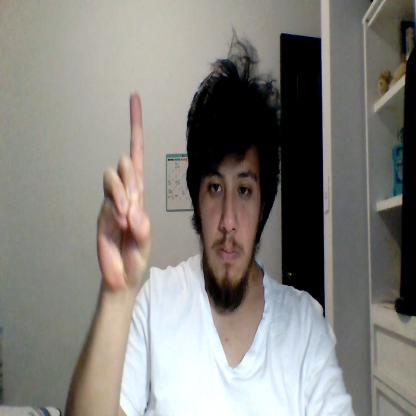D: (97, 91, 151, 290)
